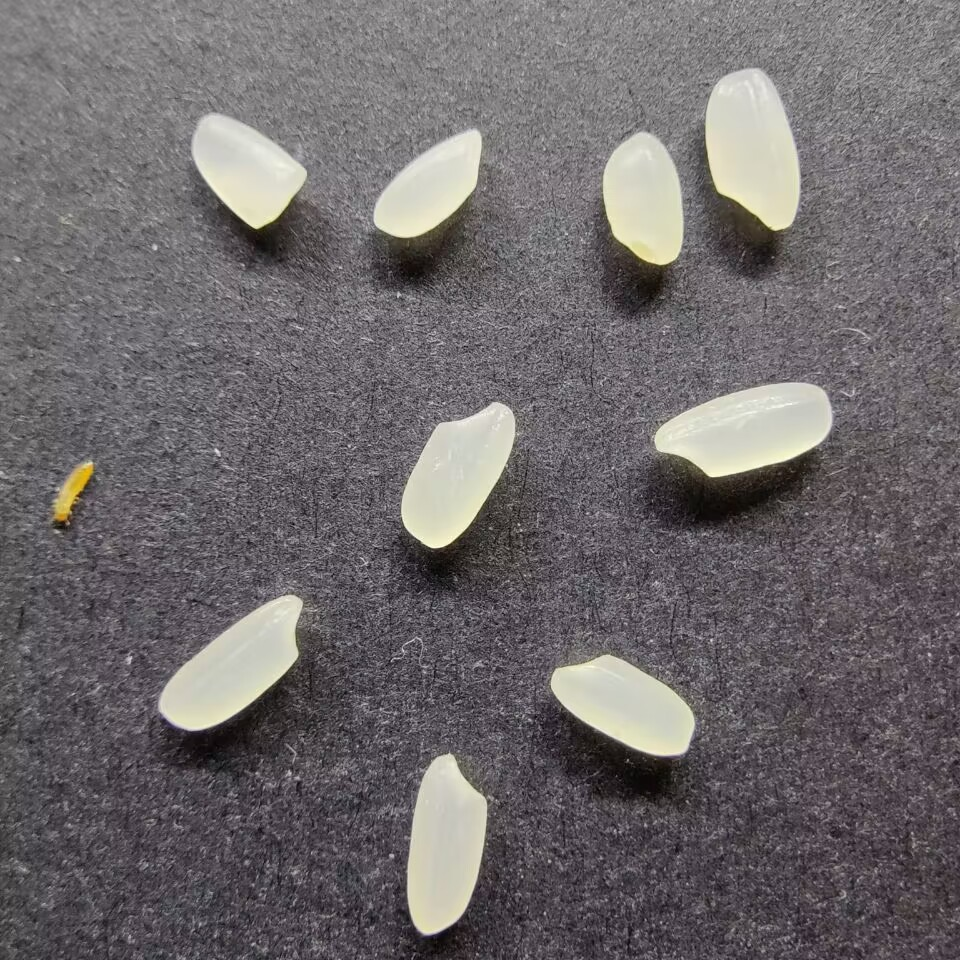broken: (188, 111, 308, 233)
others: (49, 456, 97, 530)
rice: (156, 591, 302, 733), (650, 379, 833, 478), (398, 400, 518, 550), (702, 67, 803, 233), (403, 751, 488, 937), (547, 652, 696, 758), (370, 127, 484, 240), (599, 131, 686, 266)
